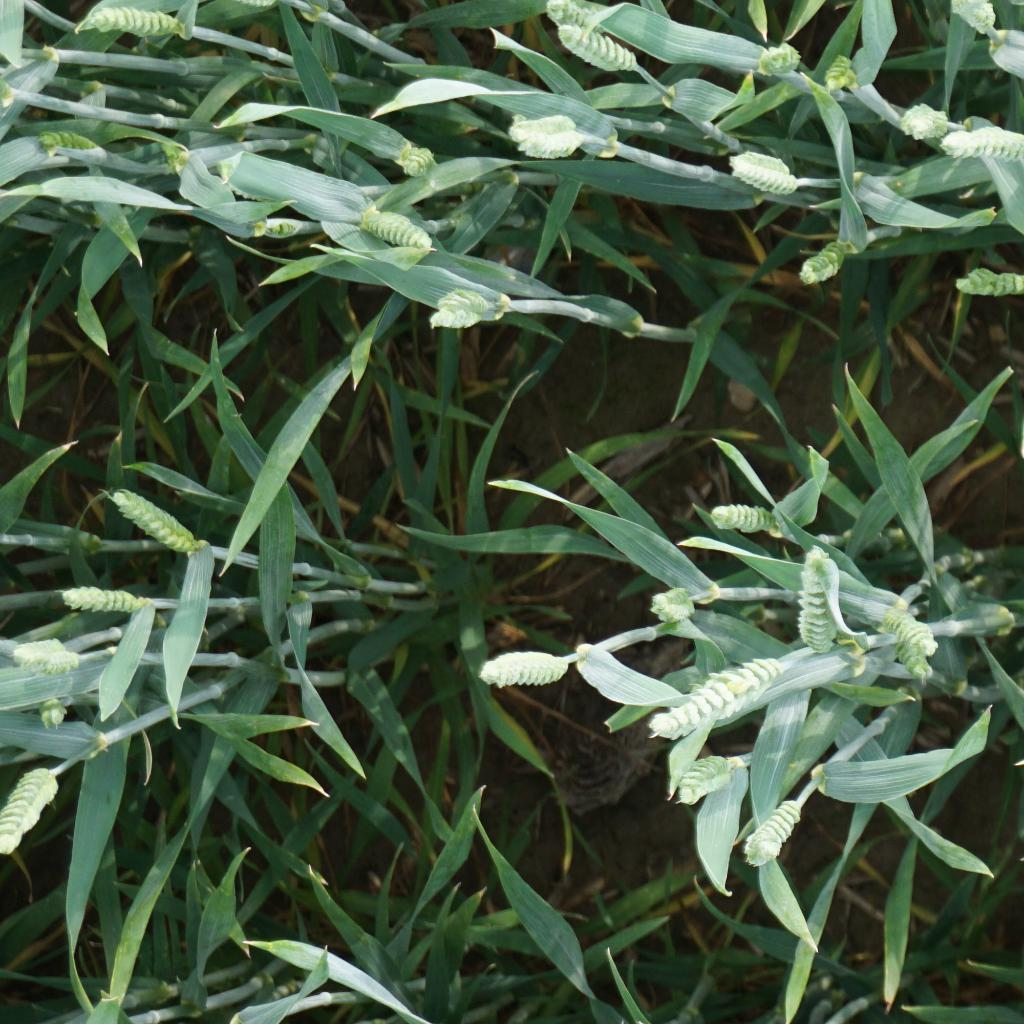0-0: (649, 648, 792, 740), (111, 487, 200, 554), (0, 762, 62, 855), (799, 542, 840, 658), (743, 797, 807, 867), (503, 112, 587, 163), (554, 23, 640, 71), (722, 144, 801, 196), (478, 648, 574, 690), (674, 750, 737, 806), (425, 282, 493, 332), (940, 122, 1024, 162), (87, 5, 184, 39), (353, 211, 431, 252), (882, 600, 938, 654), (797, 238, 859, 286), (60, 584, 155, 615), (951, 265, 1024, 301), (709, 502, 787, 534), (648, 582, 699, 622), (547, 0, 600, 38), (900, 103, 951, 142), (944, 0, 1002, 33), (38, 132, 109, 158), (8, 638, 79, 663), (754, 39, 802, 75), (900, 634, 933, 686), (827, 52, 860, 97), (27, 650, 87, 674), (400, 147, 440, 177), (38, 692, 65, 732), (264, 216, 297, 239)
